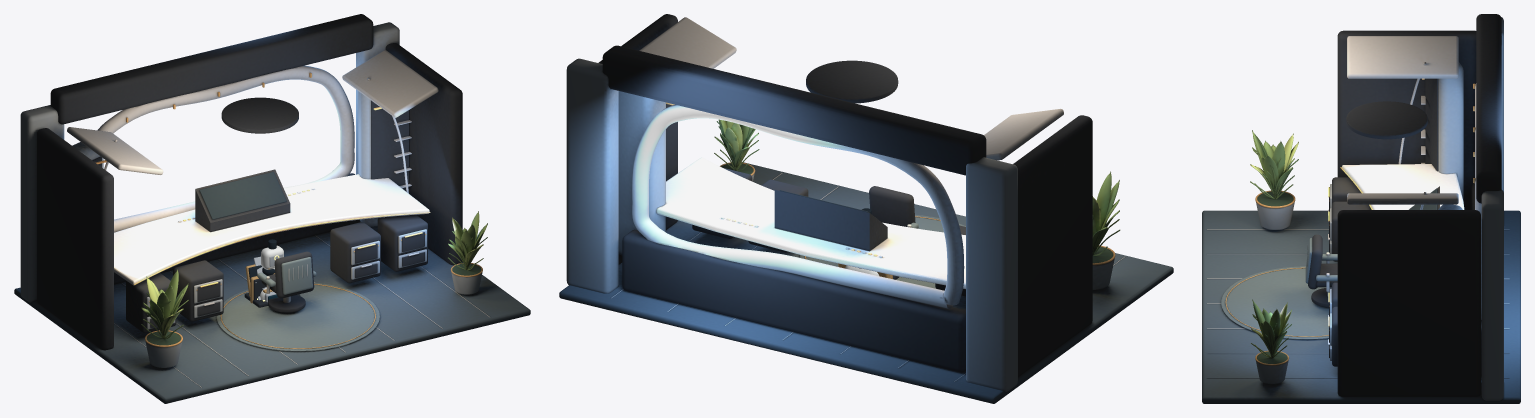
The model's file is spacefolio.glb.
3 views of the same model, side by side, from view 1: azimuth 30°, elevation 25°; view 2: azimuth 150°, elevation 25°; view 3: azimuth 270°, elevation 25° (orthographic). The views are drawn at different scales.
Visible parts, largest first — view 1: CabinShell, ConsoleBody, Chair, RobotTorso; view 2: CabinShell, ConsoleBody, Chair; view 3: CabinShell, Chair.
Boxes of the visible parts, left/top/right/bottom form: CabinShell: left=14, top=14, right=530, bottom=403; ConsoleBody: left=195, top=169, right=290, bottom=231; Chair: left=257, top=251, right=316, bottom=312; RobotTorso: left=261, top=239, right=283, bottom=275; CabinShell: left=559, top=14, right=1173, bottom=403; ConsoleBody: left=774, top=190, right=887, bottom=251; Chair: left=869, top=186, right=918, bottom=228; CabinShell: left=1202, top=14, right=1520, bottom=403; Chair: left=1305, top=234, right=1337, bottom=307.
Bounding box in the file's own units: 14.2 × 8.65 × 10.
11 materials, 1 textured.
